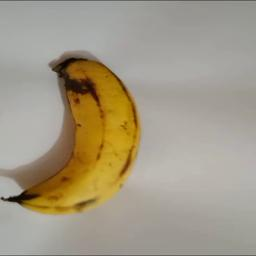Banana Semifresh: (3, 48, 145, 217)
